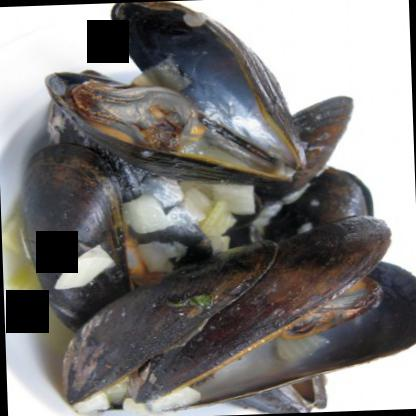mussel: (60, 234, 415, 414), (45, 0, 302, 194)
